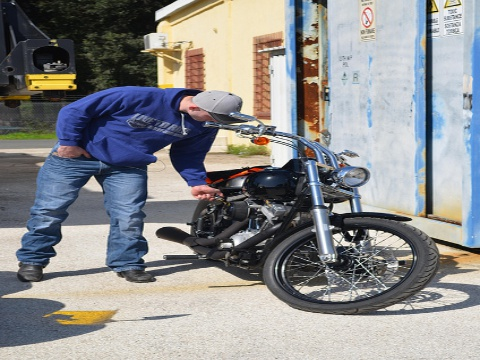hand: (190, 184, 224, 203)
